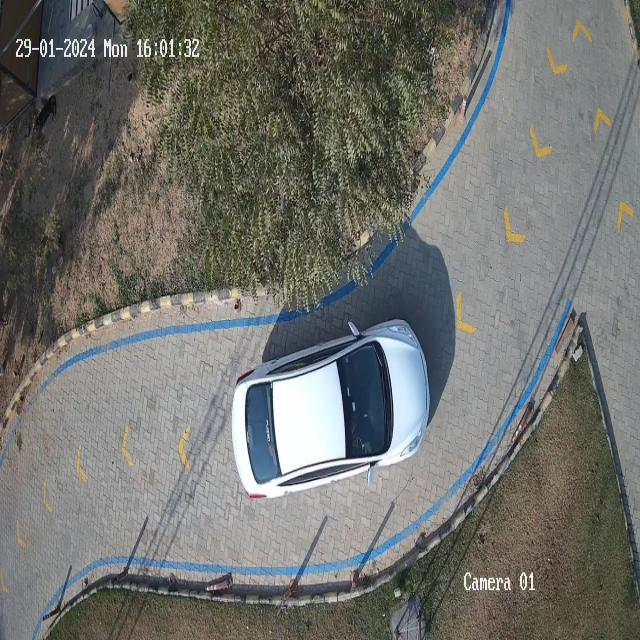car: (230, 319, 431, 505)
